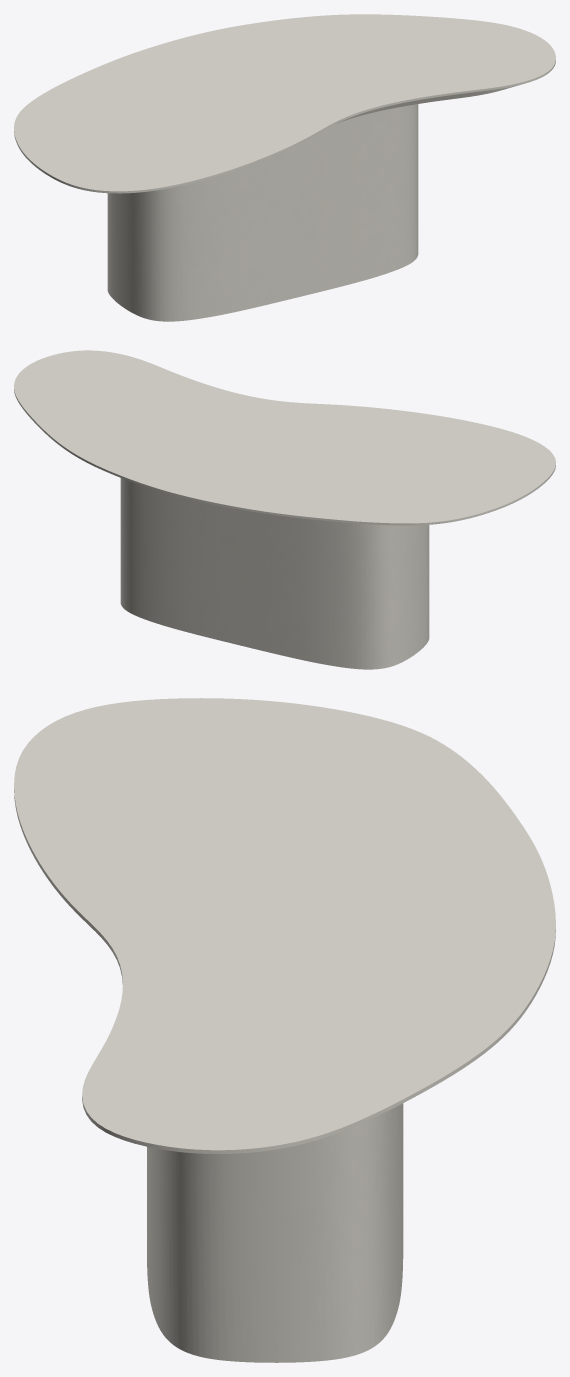
The model's file is pale_leaf1_facet_fixed.glb.
3 renders of one model, top to bottom at view 1: azimuth 30°, elevation 25°; view 2: azimuth 150°, elevation 25°; view 3: azimuth 270°, elevation 25°, orthographic. The views are drawn at different scales.
Parts seen in each view (by area): view 1: facet_leaf1, fixed; view 2: facet_leaf1, fixed; view 3: facet_leaf1, fixed.
Part boxes in pixels (<box>): facet_leaf1: <box>14,14,555,193</box>; fixed: <box>107,104,418,321</box>; facet_leaf1: <box>14,350,555,525</box>; fixed: <box>120,478,429,669</box>; facet_leaf1: <box>14,698,555,1153</box>; fixed: <box>147,1103,403,1362</box>.
Size of the model in its own units: 7.5 by 2.5 by 3.8.
1 material, 1 textured.
